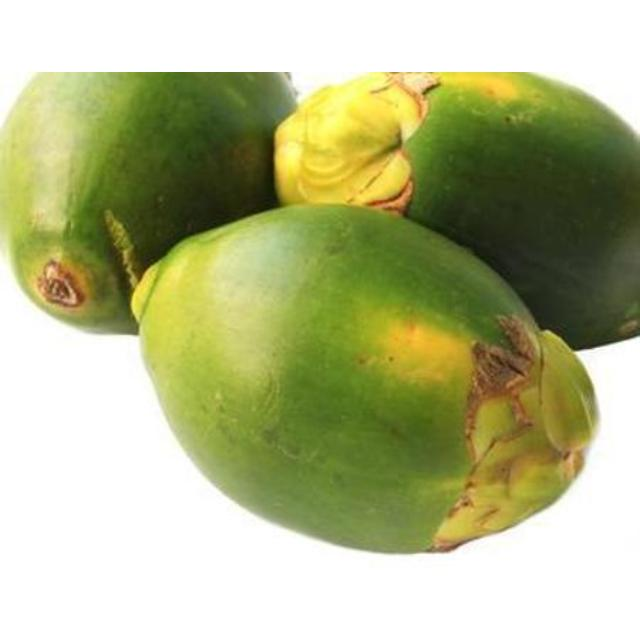good: (128, 204, 599, 557), (273, 72, 639, 352), (0, 72, 299, 337)
